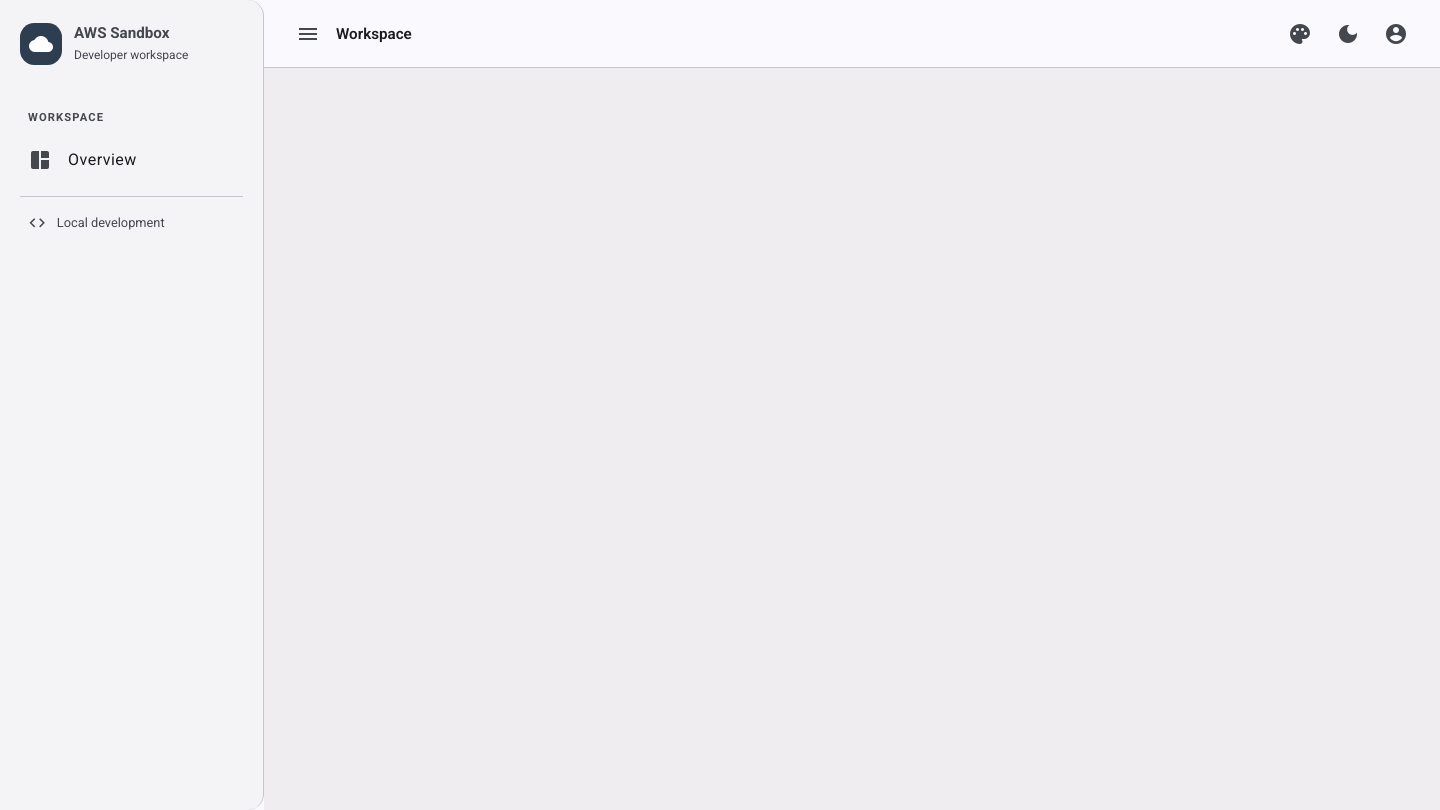
Test: ShellComponent › should show the signed-in user account information on hover
Hover over the element with class "profile-control": (1396, 34) left=1376, top=14, right=1416, bottom=54
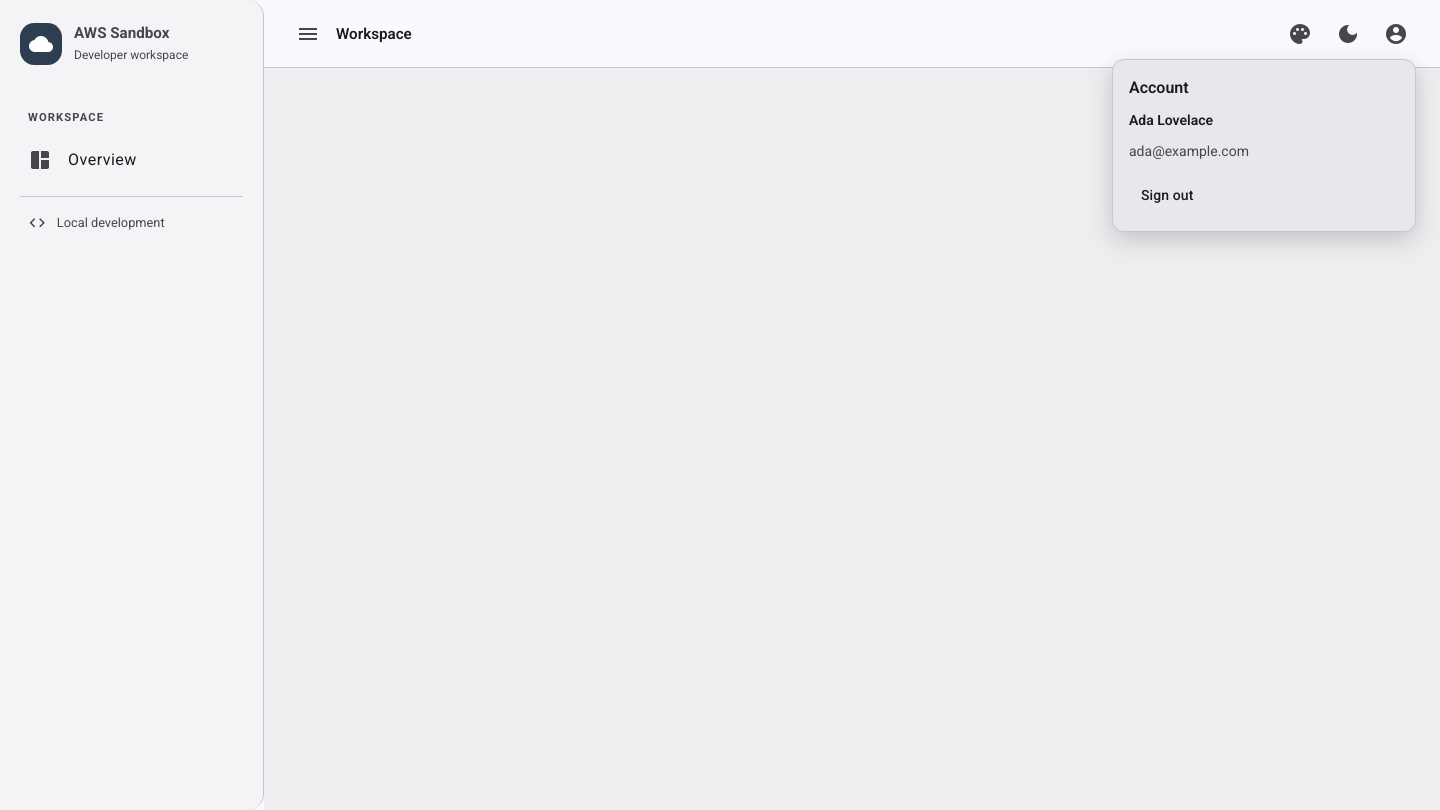
Expected: the element showing "Account Ada Lovelace ada@example.com Sign out" is shown, left=1112, top=59, right=1416, bottom=232
